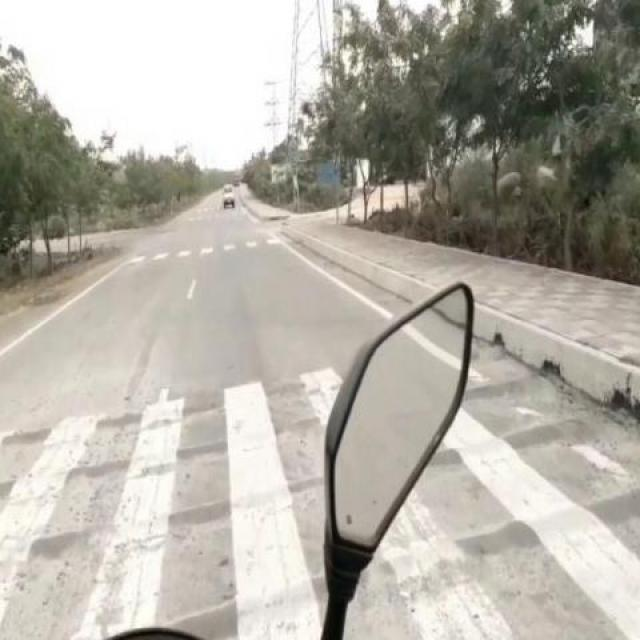Speed Bump: (0, 353, 329, 450), (0, 406, 325, 502), (0, 469, 325, 559), (422, 480, 638, 572), (182, 552, 322, 632), (464, 403, 604, 458), (468, 364, 536, 399)
